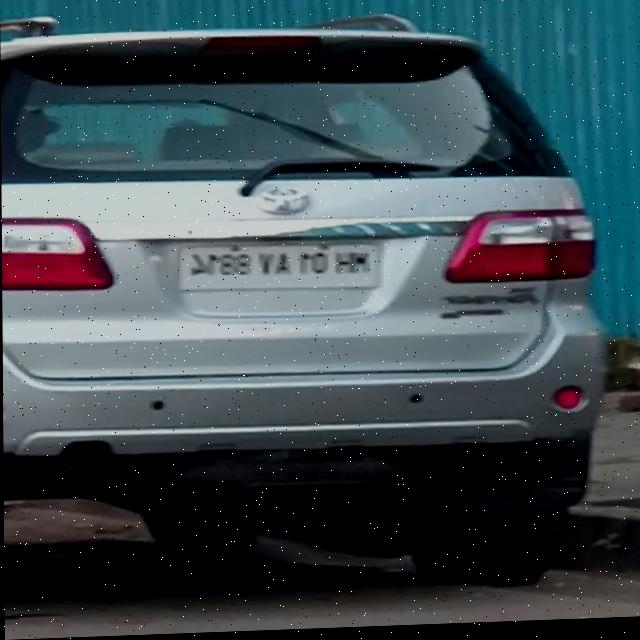plate: (173, 240, 383, 298)
